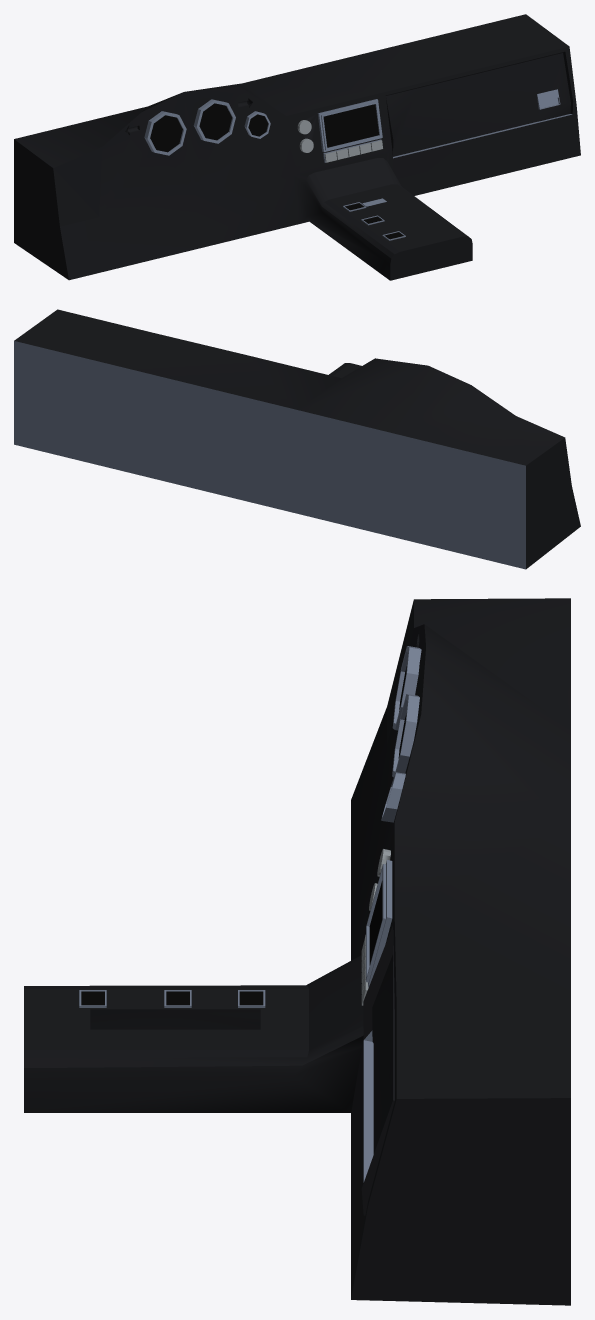
The model's file is coloured dashboard.fbx.
The picture shows the model from 3 angles, top to bottom: view 1: azimuth 30°, elevation 25°; view 2: azimuth 150°, elevation 25°; view 3: azimuth 270°, elevation 25°; orthographic projection. The views are drawn at different scales.
Parts seen in each view (by area): view 1: Dashboard; view 2: Dashboard; view 3: Dashboard.
Part boxes in pixels (x1,y1,x2,y2): Dashboard: (14, 14, 580, 280); Dashboard: (14, 309, 580, 569); Dashboard: (24, 598, 570, 1305).
Size of the model in its own units: 76.95 by 20.79 by 35.58.
